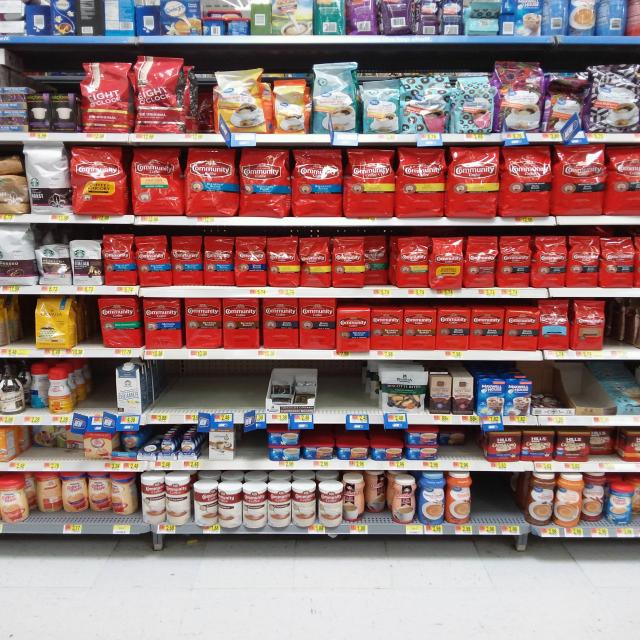void: (158, 360, 262, 415), (326, 358, 376, 414), (477, 472, 521, 526)
